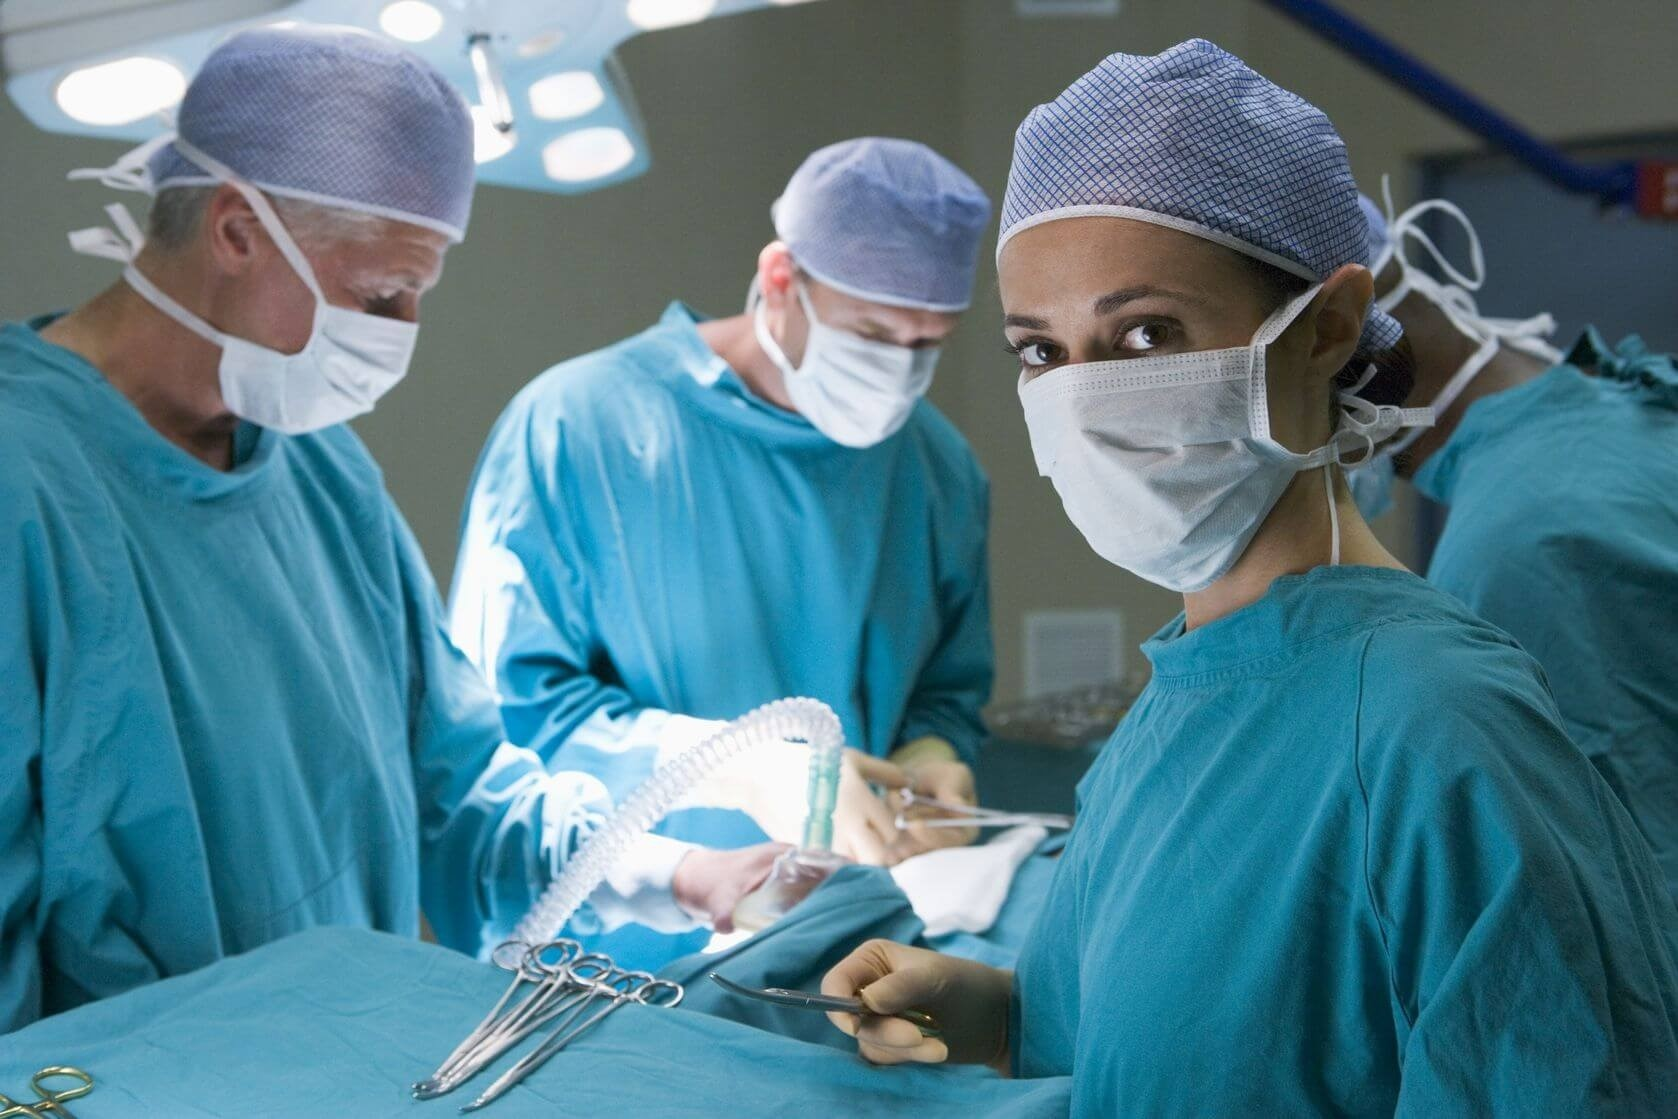face_with_mask: (977, 32, 1363, 591), (142, 23, 476, 455), (764, 136, 985, 445)
